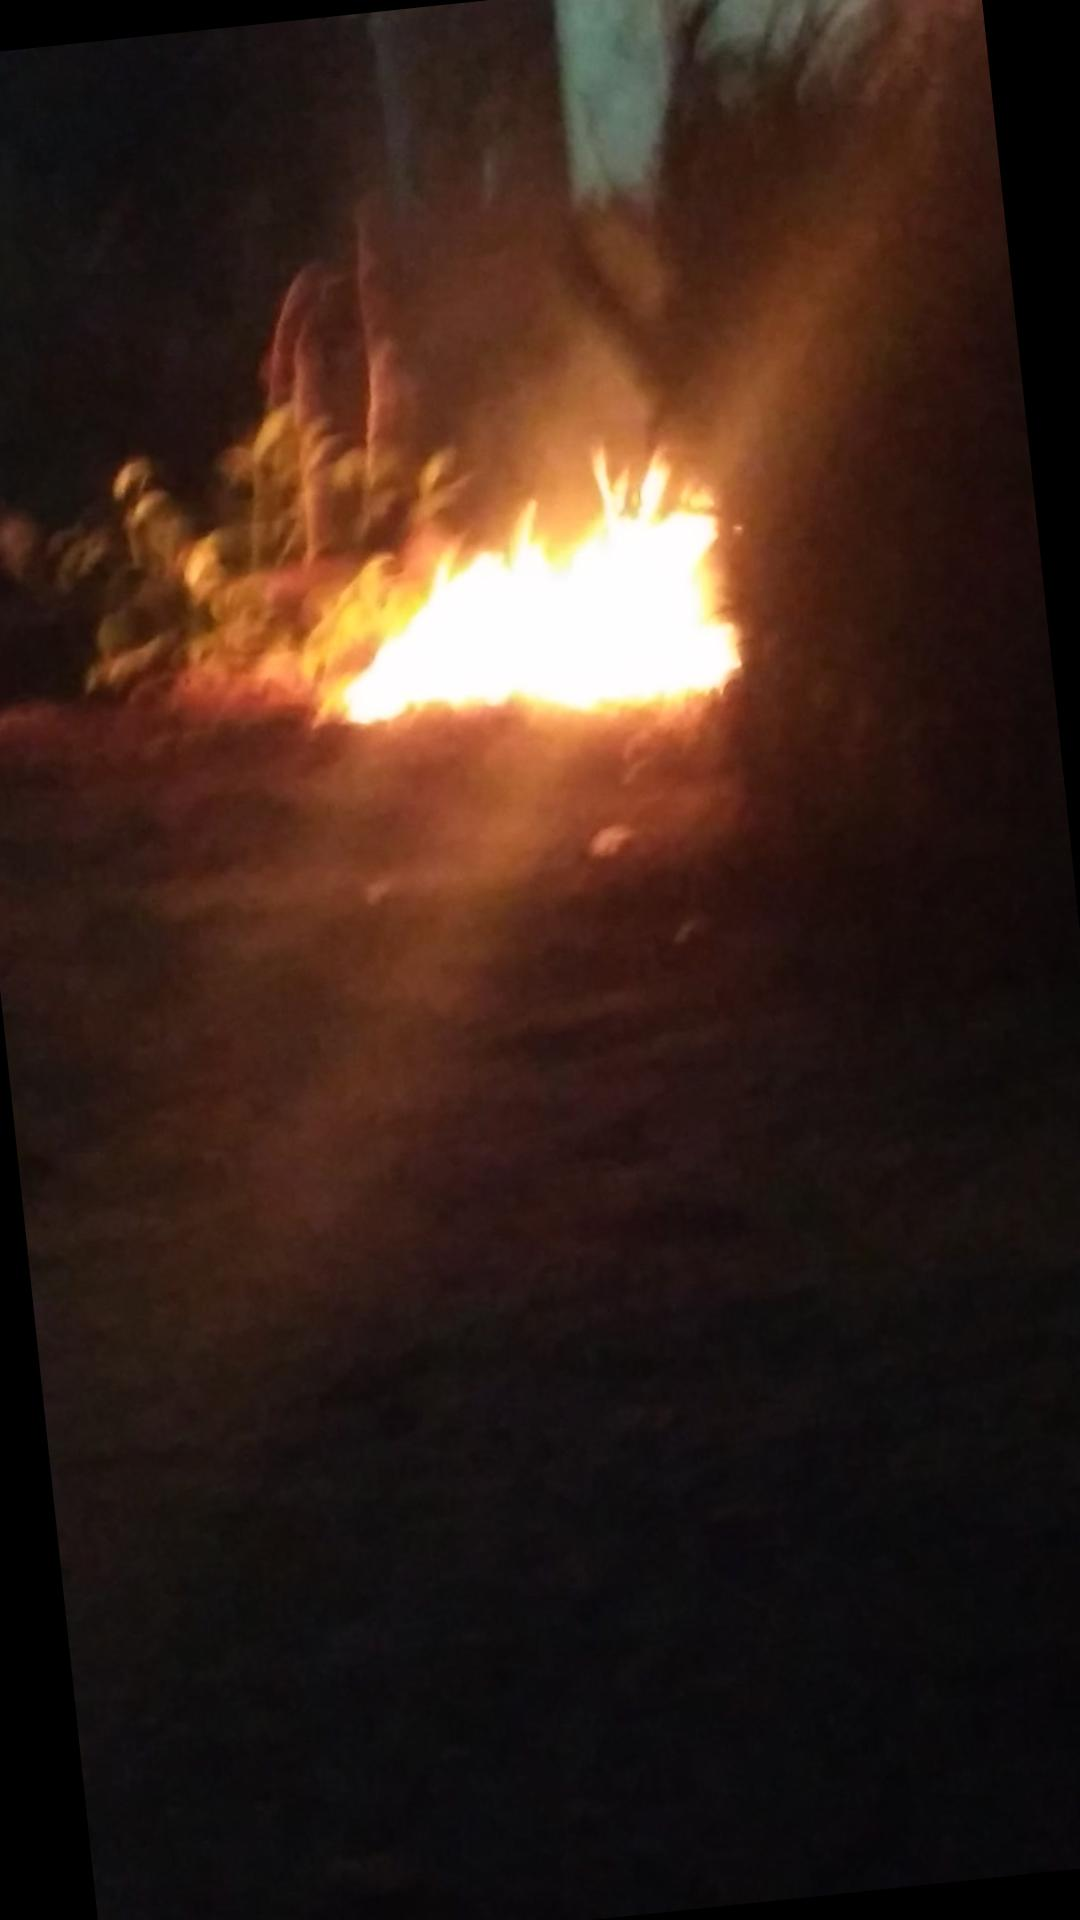Fire: (302, 431, 756, 744)
